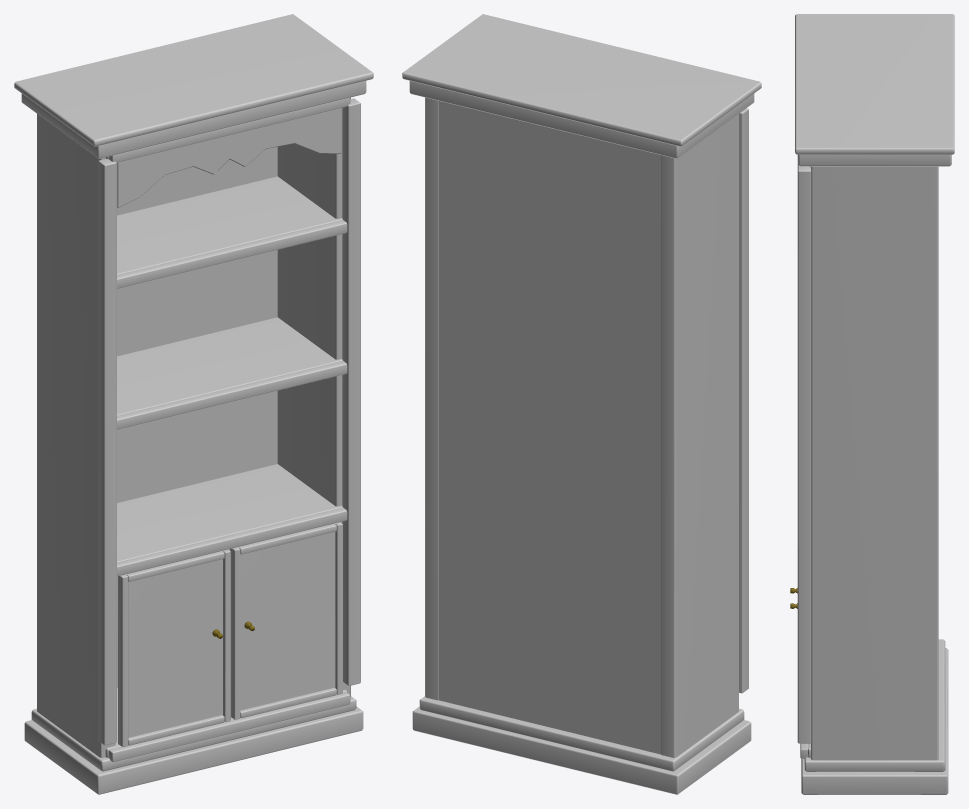
Rendered from 04_Bookcase.fbx.
The picture shows the model from 3 angles, left to right: view 1: azimuth 30°, elevation 25°; view 2: azimuth 150°, elevation 25°; view 3: azimuth 270°, elevation 25°; orthographic projection.
Parts seen in each view (by area): view 1: 04_Bookcase; view 2: 04_Bookcase; view 3: 04_Bookcase.
Part boxes in pixels (box(x1,y1,x2,y2)): 04_Bookcase: box(14, 14, 373, 794); 04_Bookcase: box(402, 14, 761, 794); 04_Bookcase: box(790, 14, 954, 794).
Bounding box in the file's own units: 1 × 2.25 × 0.515.
